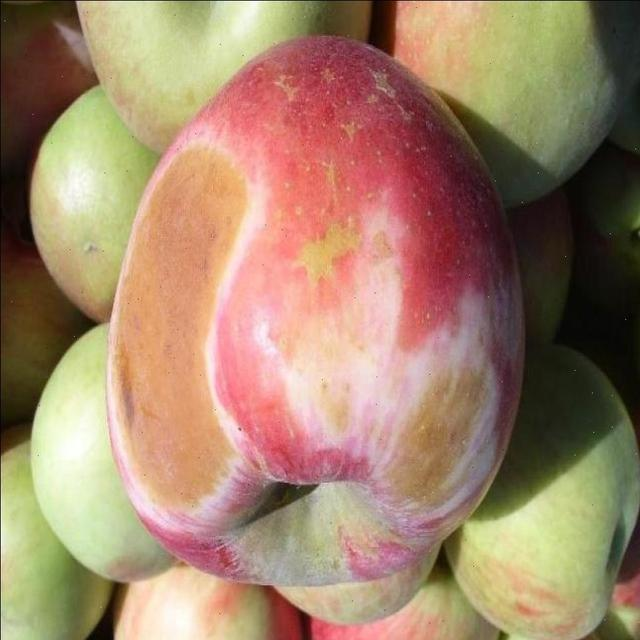Sunscald Fruit: (69, 81, 176, 349)
